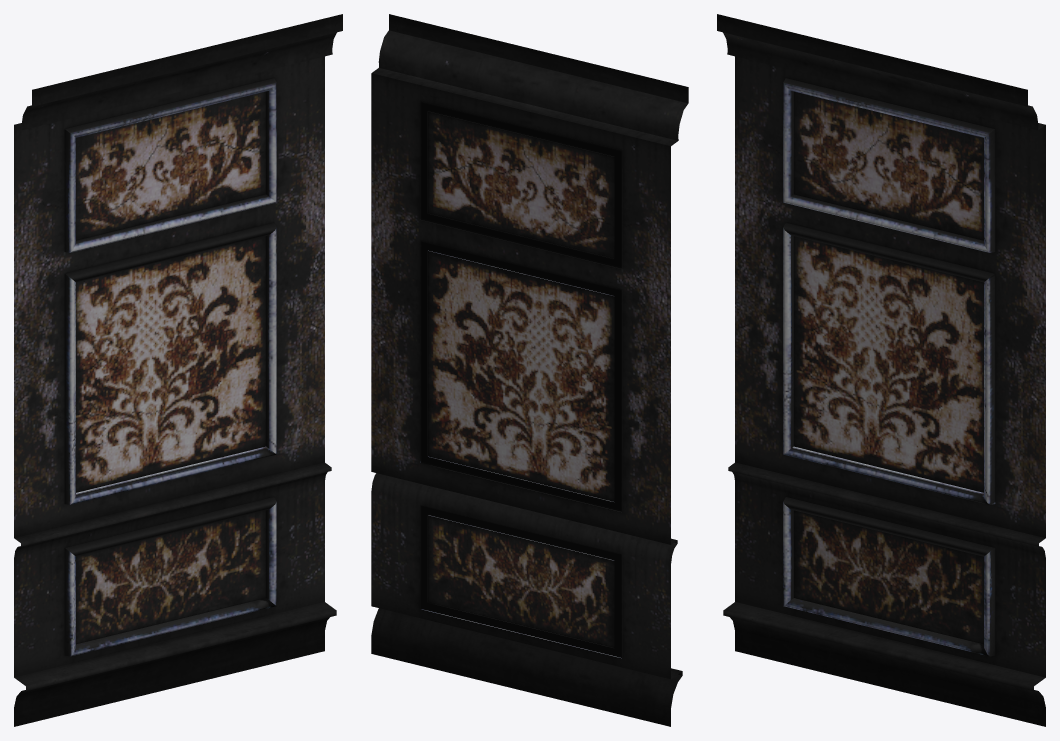
File: short_rotten.dae
3 renders of one model, left to right at view 1: azimuth 30°, elevation 25°; view 2: azimuth 150°, elevation 25°; view 3: azimuth 330°, elevation 25°, orthographic. The views are drawn at different scales.
Parts seen in each view (by area): view 1: mansionbase_short; view 2: mansionbase_short; view 3: mansionbase_short.
Boxes of the visible parts, x1,y1,x2,y2 form: mansionbase_short: [14, 14, 342, 726]; mansionbase_short: [371, 14, 688, 726]; mansionbase_short: [717, 14, 1045, 726].
Size of the model in its own units: 2 by 4 by 0.2045.
